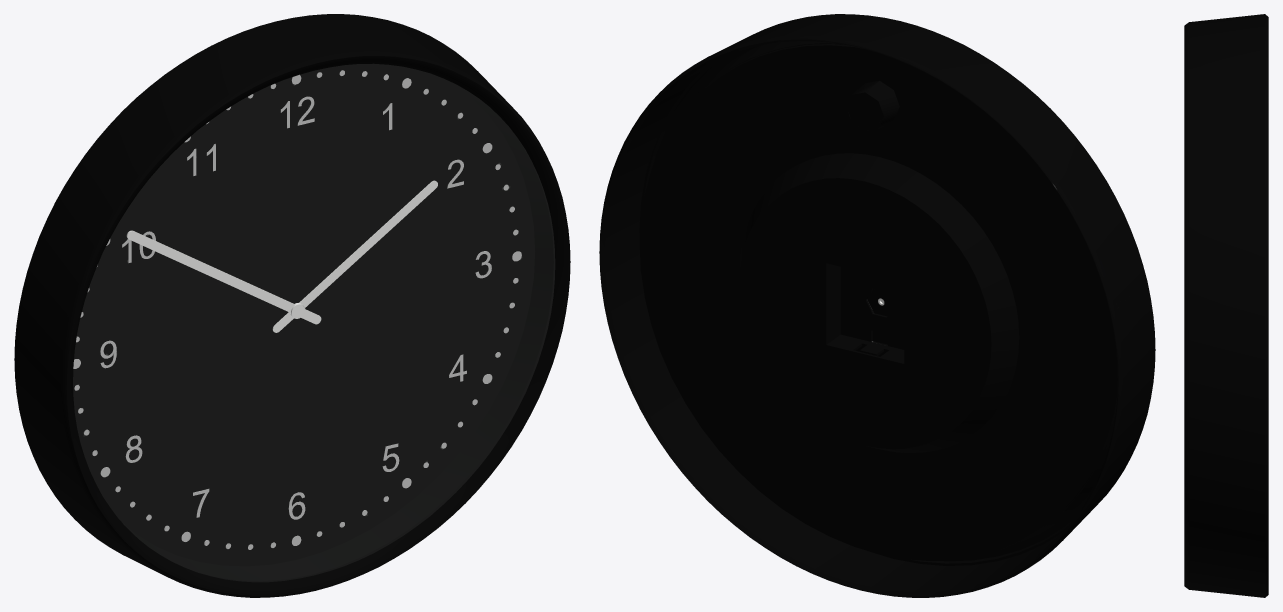
File: bondis_zegar_scienny_10543092.glb
3 renders of one model, left to right at view 1: azimuth 30°, elevation 25°; view 2: azimuth 150°, elevation 25°; view 3: azimuth 270°, elevation 25°, orthographic. The views are drawn at different scales.
Visible parts, largest first — view 1: bondis_zegar_scienny_10543092; view 2: bondis_zegar_scienny_10543092; view 3: bondis_zegar_scienny_10543092.
Part boxes in pixels (x1,y1,x2,y2): bondis_zegar_scienny_10543092: (14, 14, 570, 597); bondis_zegar_scienny_10543092: (599, 14, 1155, 597); bondis_zegar_scienny_10543092: (1184, 14, 1268, 597).
Size of the model in its own units: 0.38 by 0.38 by 0.0548.
Materials: 3 (2 with a texture image).
